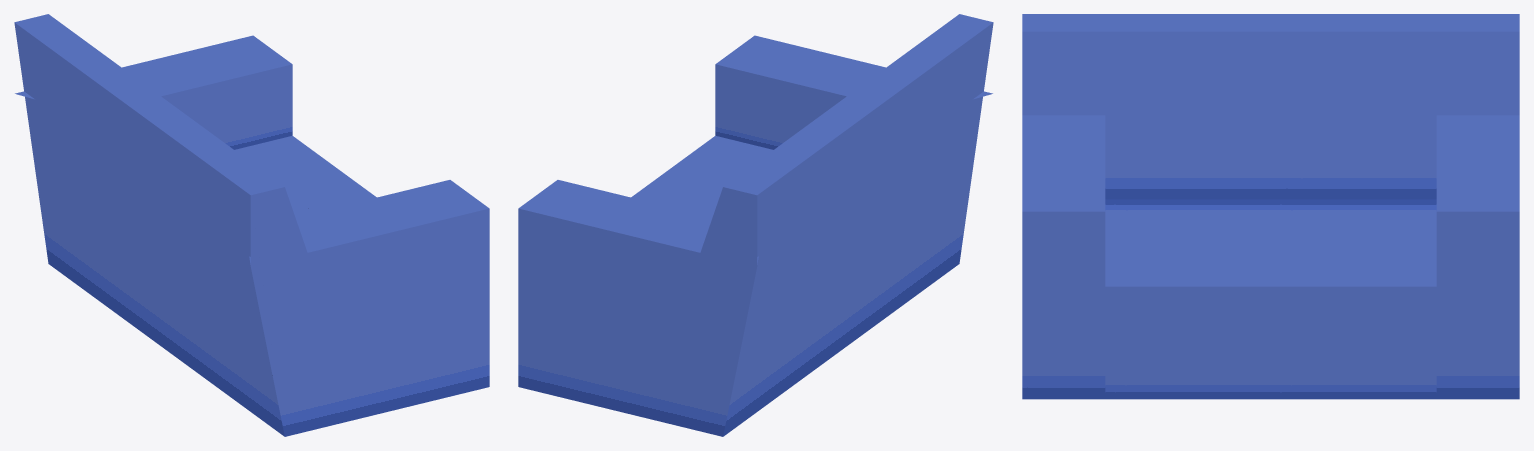
Rendered from Couch.gltf.
3 views of the same model, side by side, from view 1: azimuth 30°, elevation 25°; view 2: azimuth 150°, elevation 25°; view 3: azimuth 270°, elevation 25° (orthographic). The views are drawn at different scales.
Parts seen in each view (by area): view 1: Couch; view 2: Couch; view 3: Couch.
Part boxes in pixels (bbox=[...]): Couch: bbox=[14, 14, 489, 436]; Couch: bbox=[518, 14, 993, 436]; Couch: bbox=[1022, 14, 1519, 399].
Size of the model in its own units: 1.75 by 2 by 3.
1 material, 1 textured.
